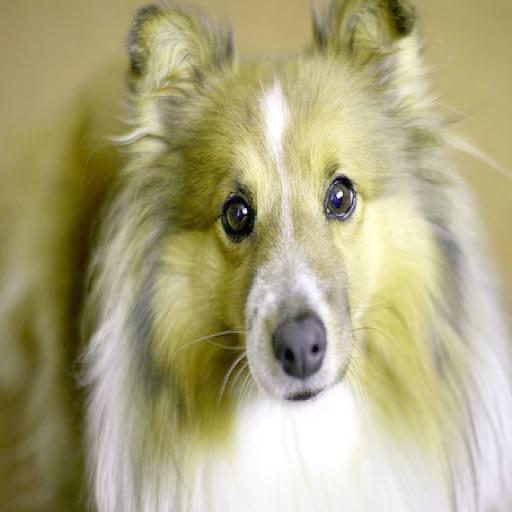dog_face: (136, 0, 422, 410)
